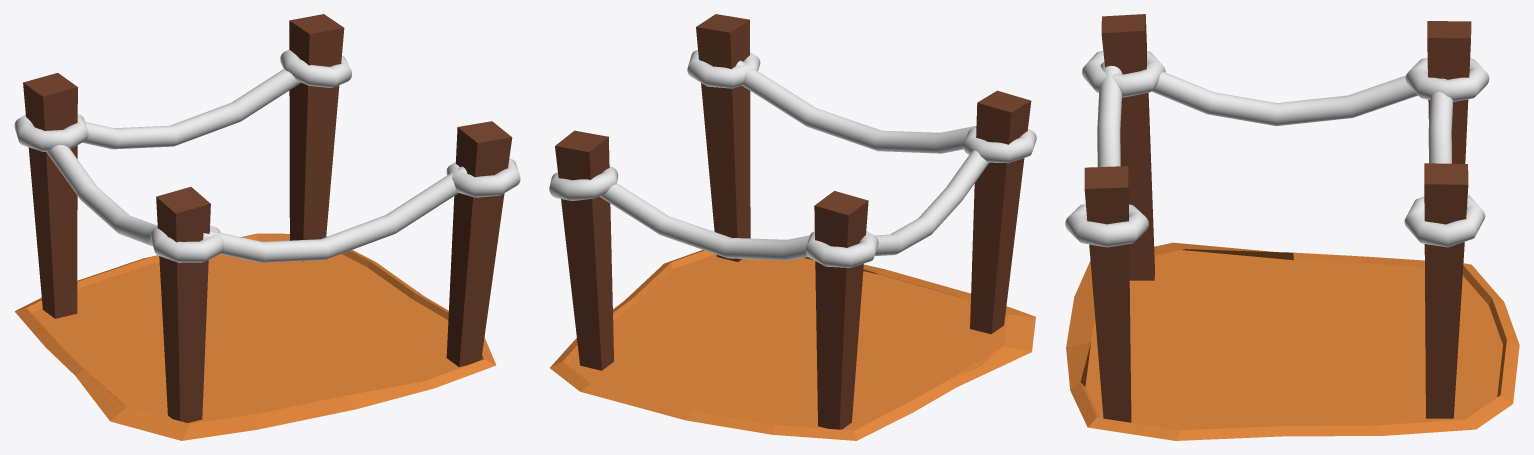
The model's file is Stone Container.fbx.
The picture shows the model from 3 angles, left to right: view 1: azimuth 30°, elevation 25°; view 2: azimuth 150°, elevation 25°; view 3: azimuth 270°, elevation 25°; orthographic projection. The views are drawn at different scales.
Visible parts, largest first — view 1: Stone Container, BezierCircle.004; view 2: Stone Container, BezierCircle.004; view 3: Stone Container, BezierCircle.004.
Part boxes in pixels (<box>): Stone Container: <box>15,14,512,440</box>; BezierCircle.004: <box>14,50,520,262</box>; Stone Container: <box>550,14,1035,440</box>; BezierCircle.004: <box>549,50,1036,267</box>; Stone Container: <box>1066,14,1519,440</box>; BezierCircle.004: <box>1065,51,1489,247</box>.
Size of the model in its own units: 204 by 122 by 195.
